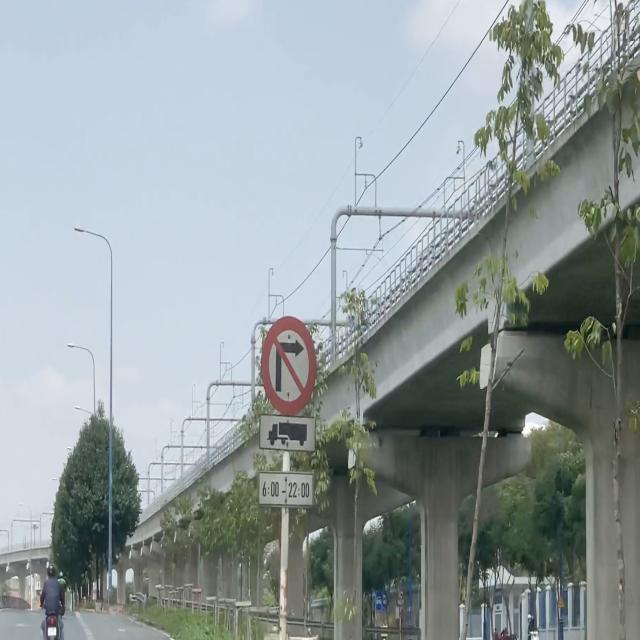Cam re phai: (260, 314, 317, 418)
